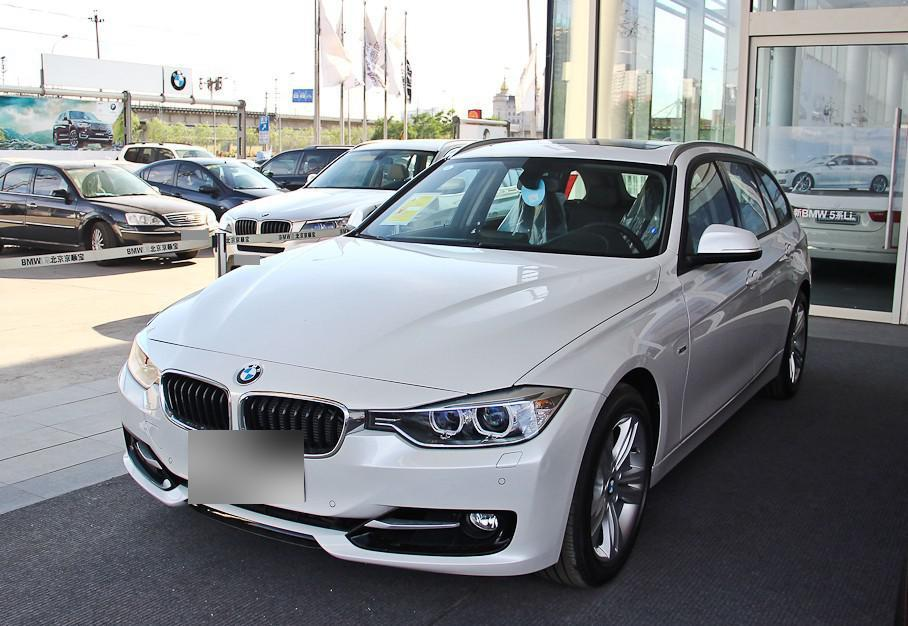Wagon: (119, 138, 812, 587)
